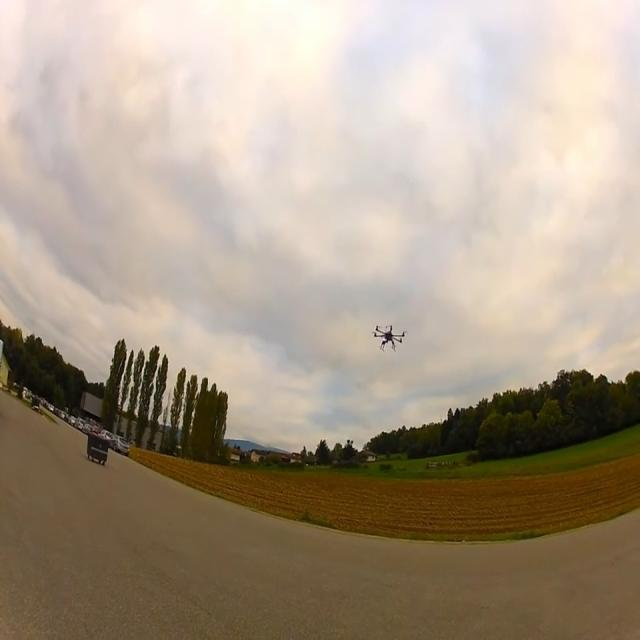drone: (372, 324, 406, 352)
